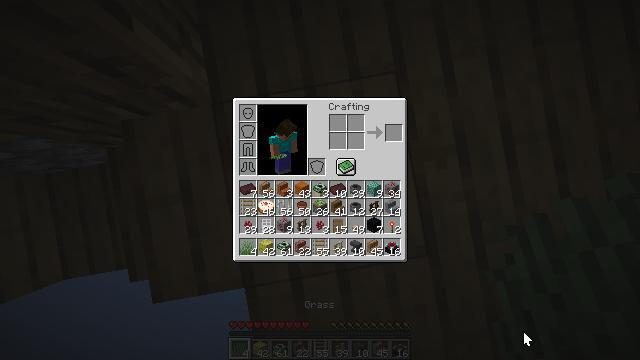cursor: (523, 331, 533, 347)
